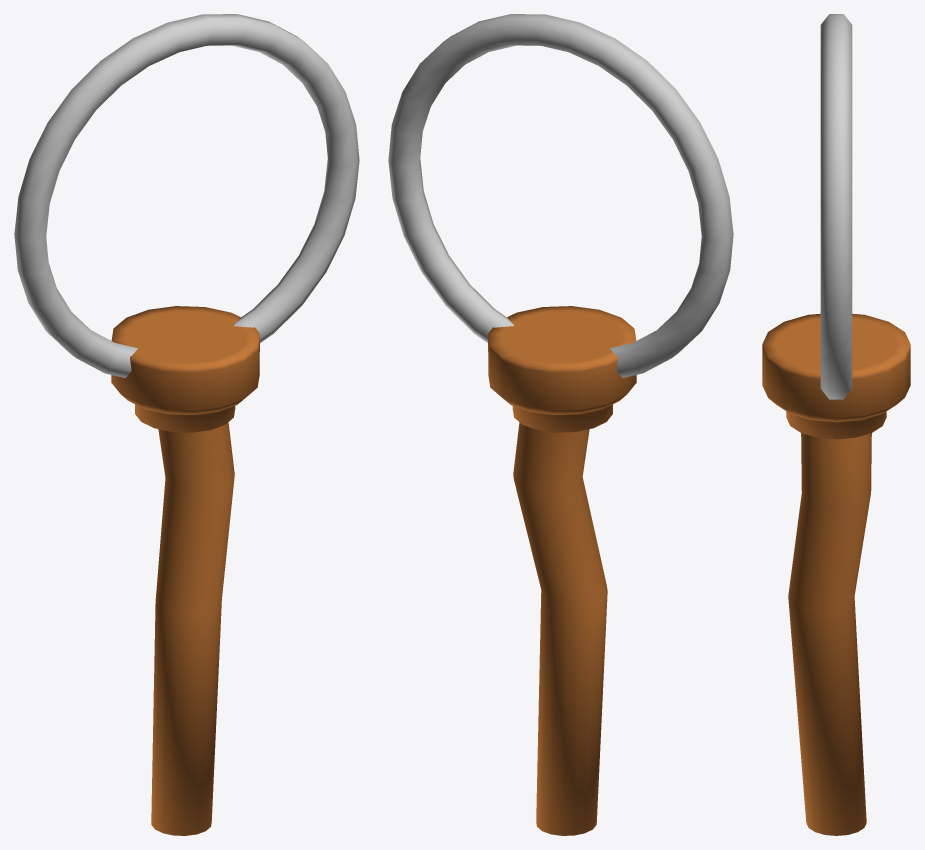
File: tongkat.fbx
3 views of the same model, side by side, from view 1: azimuth 30°, elevation 25°; view 2: azimuth 150°, elevation 25°; view 3: azimuth 270°, elevation 25° (orthographic).
Parts seen in each view (by area): view 1: Cylinder; view 2: Cylinder; view 3: Cylinder.
Boxes of the visible parts, box(x1,y1,x2,y2) form: Cylinder: box(14, 14, 359, 835); Cylinder: box(388, 14, 733, 835); Cylinder: box(762, 14, 910, 835).
Size of the model in its own units: 74.8 by 169 by 28.69.
